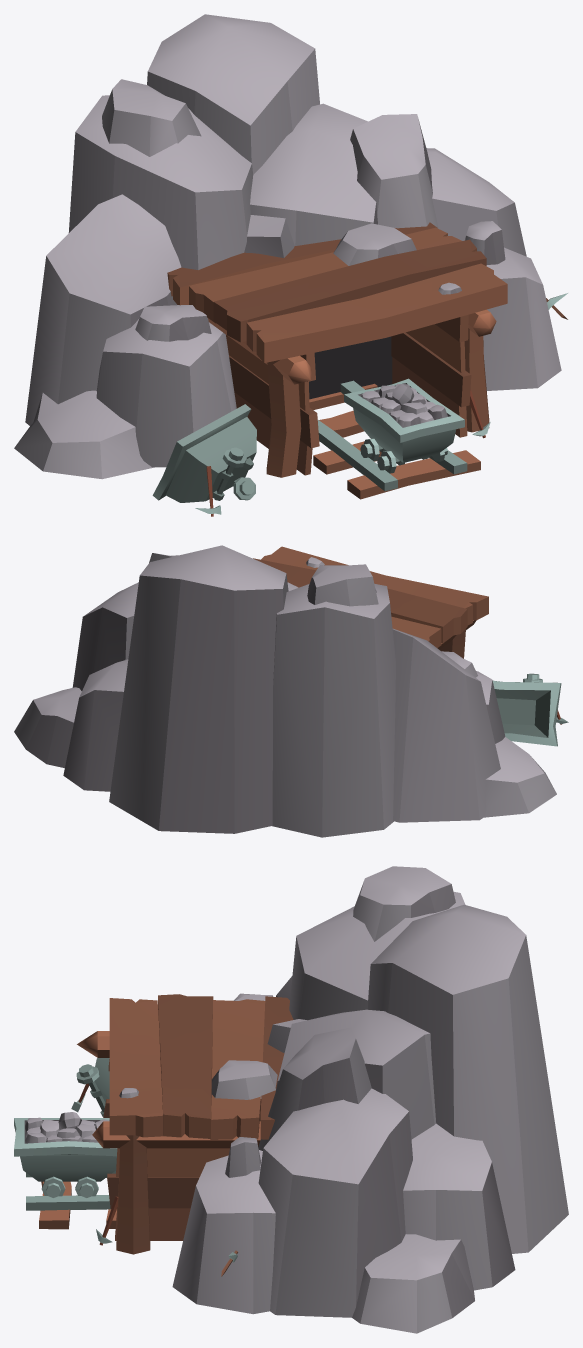
The model's file is Mine.fbx.
3 views of the same model, one above another, from view 1: azimuth 30°, elevation 25°; view 2: azimuth 150°, elevation 25°; view 3: azimuth 270°, elevation 25° (orthographic). The views are drawn at different scales.
Visible parts, largest first — view 1: Mine_1; view 2: Mine_1; view 3: Mine_1.
Boxes of the visible parts, left/top/right/bottom form: Mine_1: left=14, top=14, right=567, bottom=516; Mine_1: left=14, top=545, right=568, bottom=837; Mine_1: left=14, top=866, right=568, bottom=1333.
Bounding box in the file's own units: 0.1621 × 0.0859 × 0.1425.
